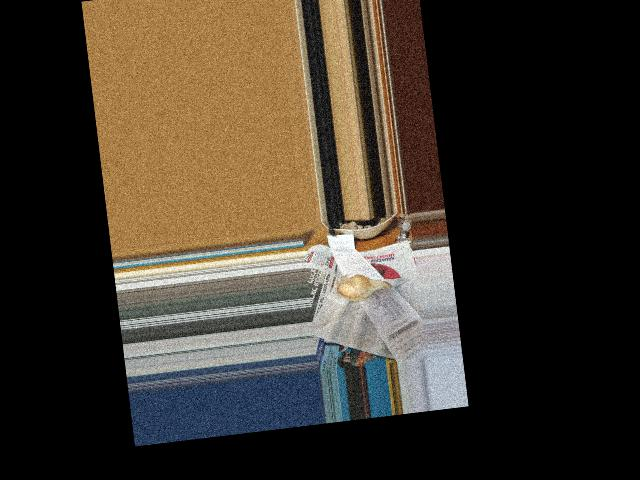onion: (337, 274, 380, 301)
